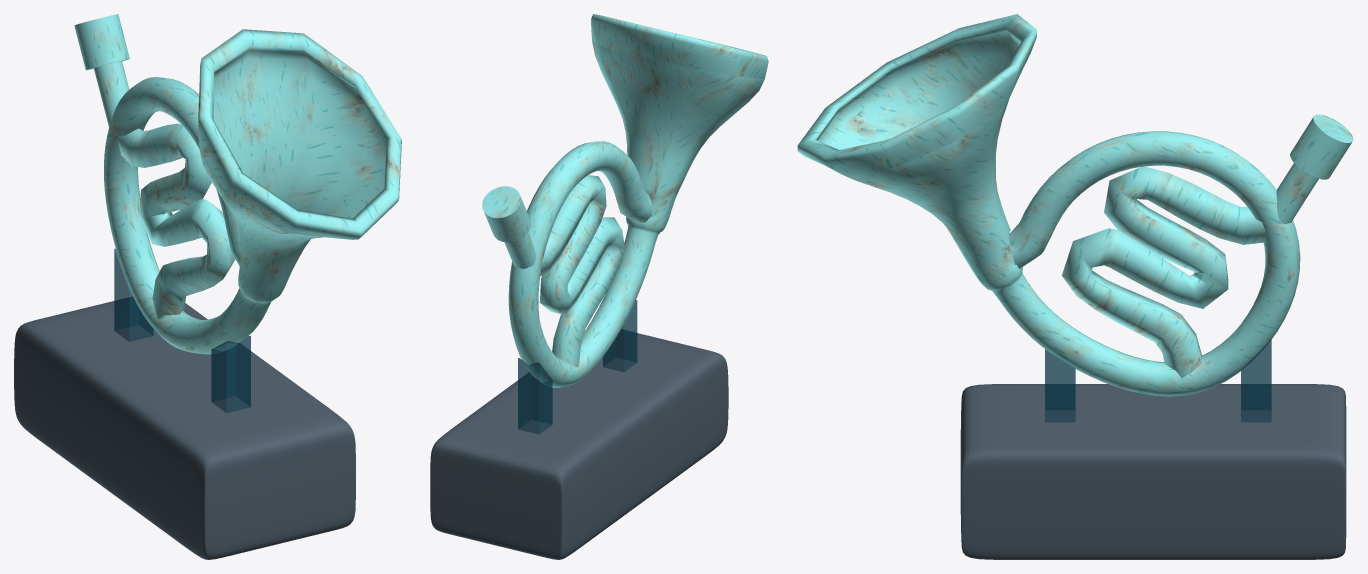
Rendered from Horn.fbx.
3 renders of one model, left to right at view 1: azimuth 30°, elevation 25°; view 2: azimuth 150°, elevation 25°; view 3: azimuth 270°, elevation 25°, orthographic. The views are drawn at different scales.
Parts seen in each view (by area): view 1: polySurface37, pCube1, pCube2, pCube3; view 2: polySurface37, pCube1, pCube3, pCube2; view 3: polySurface37, pCube1, pCube3, pCube2.
Part boxes in pixels (left/top/right/bottom): polySurface37: left=74, top=14, right=401, bottom=354; pCube1: left=14, top=297, right=355, bottom=559; pCube2: left=211, top=335, right=250, bottom=412; pCube3: left=114, top=248, right=153, bottom=341; polySurface37: left=482, top=14, right=768, bottom=387; pCube1: left=430, top=329, right=728, bottom=559; pCube3: left=518, top=358, right=552, bottom=434; pCube2: left=603, top=300, right=637, bottom=372; polySurface37: left=797, top=14, right=1353, bottom=396; pCube1: left=960, top=384, right=1346, bottom=559; pCube3: left=1241, top=339, right=1271, bottom=422; pCube2: left=1045, top=349, right=1075, bottom=422.
Bounding box in the file's own units: 2.21 × 6.12 × 6.21.
